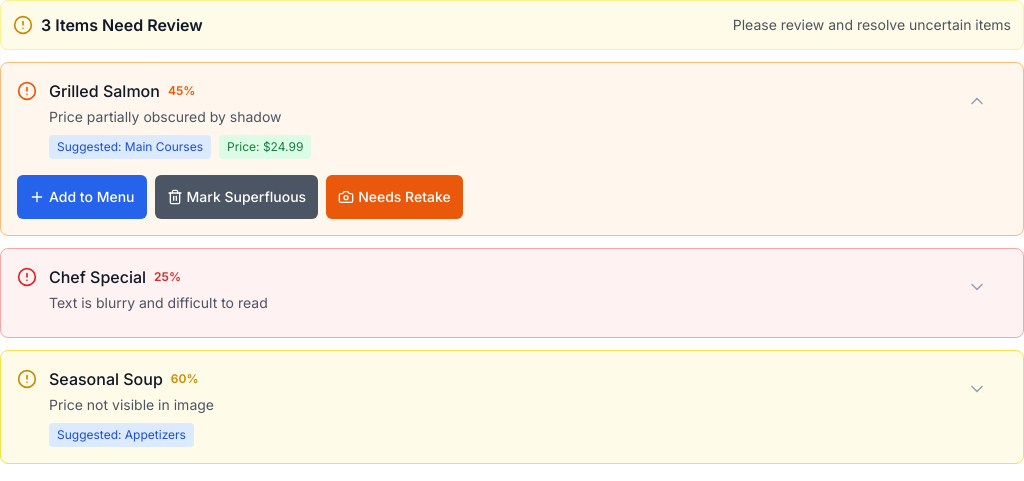
Scenario: UncertainItemsPanel › Expand/Collapse › should toggle item expansion on click
# Click to collapse first item
Click the button titled "Collapse".
click(985, 101)  # box [963,79,1007,123]
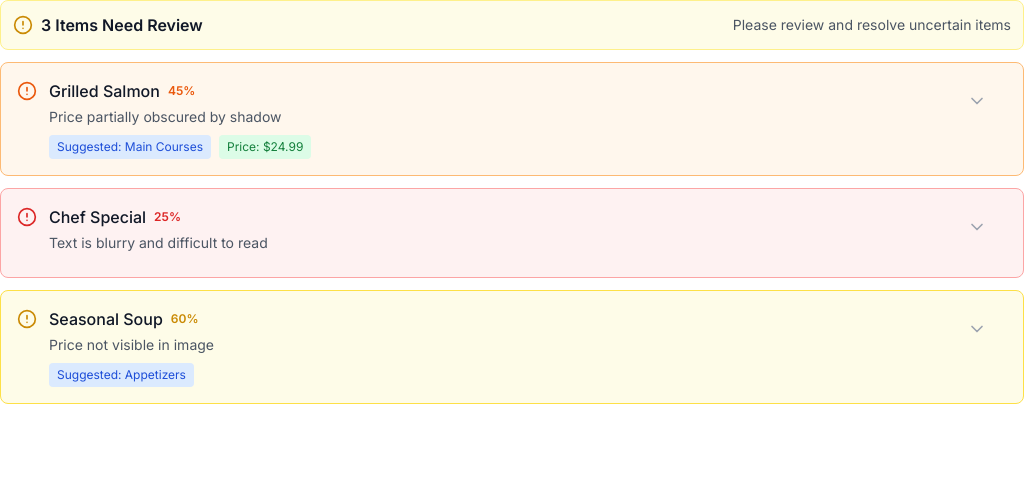
Expected: the button "Add to Menu" is gone
